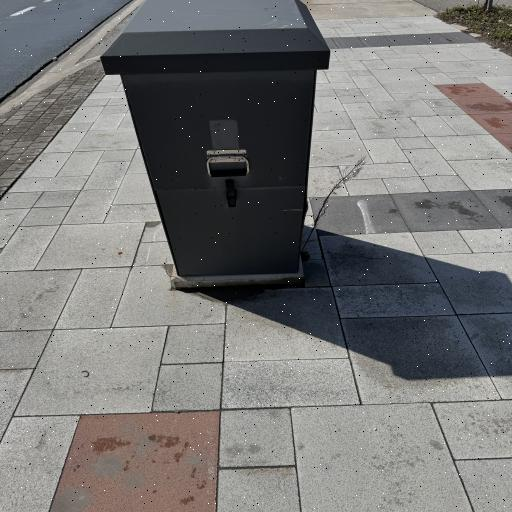Electrical Box: (100, 0, 332, 285)
